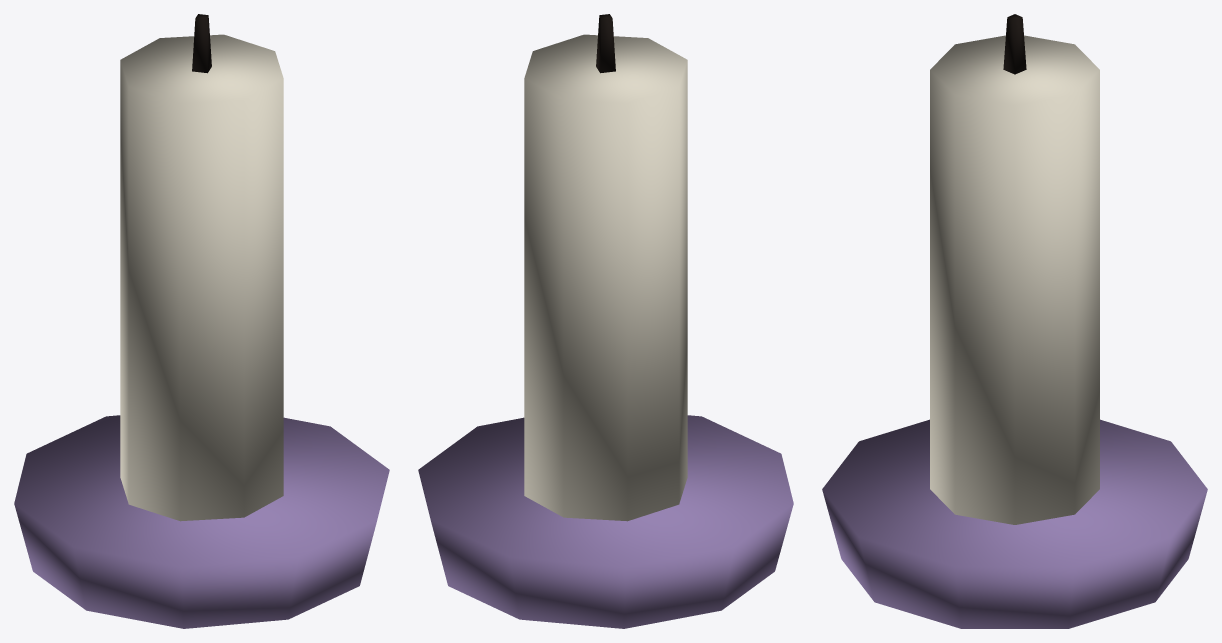
The model's file is ebonwood_candle_v0.glb.
3 views of the same model, side by side, from view 1: azimuth 30°, elevation 25°; view 2: azimuth 150°, elevation 25°; view 3: azimuth 270°, elevation 25° (orthographic).
Parts seen in each view (by area): view 1: ebonwood_candle_v0; view 2: ebonwood_candle_v0; view 3: ebonwood_candle_v0.
Boxes of the visible parts, x1,y1,x2,y2 form: ebonwood_candle_v0: (14, 14, 389, 628); ebonwood_candle_v0: (418, 14, 793, 628); ebonwood_candle_v0: (822, 14, 1207, 628).
Size of the model in its own units: 0.0951 by 0.155 by 0.1.
